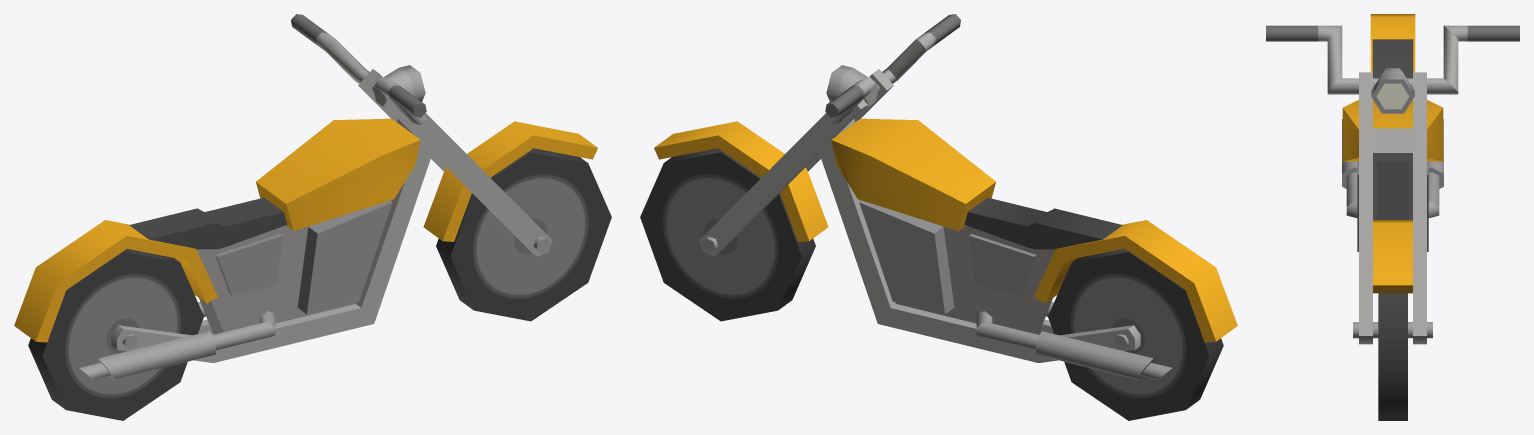
The model's file is west_che07.FBX.
3 renders of one model, left to right at view 1: azimuth 30°, elevation 25°; view 2: azimuth 150°, elevation 25°; view 3: azimuth 270°, elevation 25°, orthographic. The views are drawn at different scales.
Parts seen in each view (by area): view 1: west_che07; view 2: west_che07; view 3: west_che07.
Boxes of the visible parts, x1=… form: west_che07: x1=14, y1=14, x2=611, y2=420; west_che07: x1=640, y1=14, x2=1237, y2=420; west_che07: x1=1266, y1=14, x2=1519, y2=420.
Size of the model in its own units: 614 by 301 by 225.
